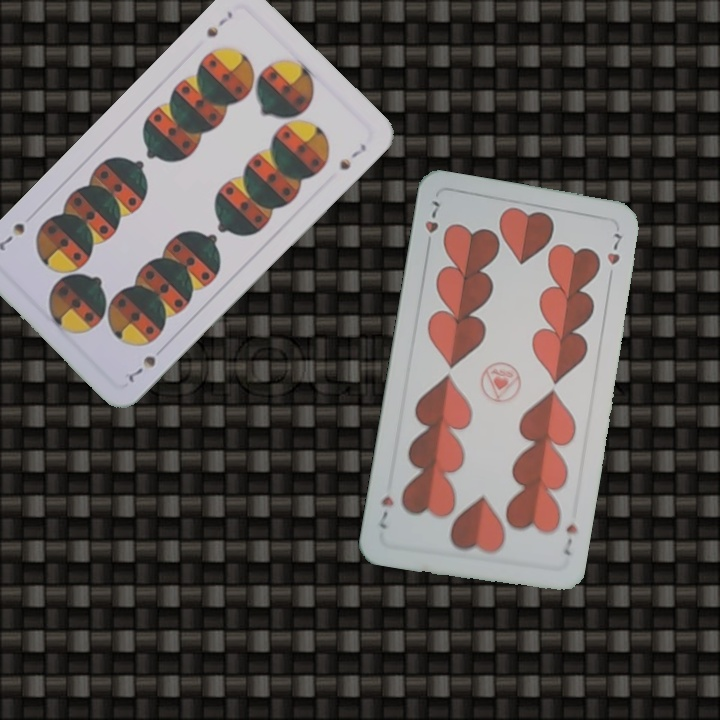H7: (420, 197, 442, 253), (559, 520, 580, 558)
S7: (124, 351, 158, 386), (202, 6, 236, 40)
